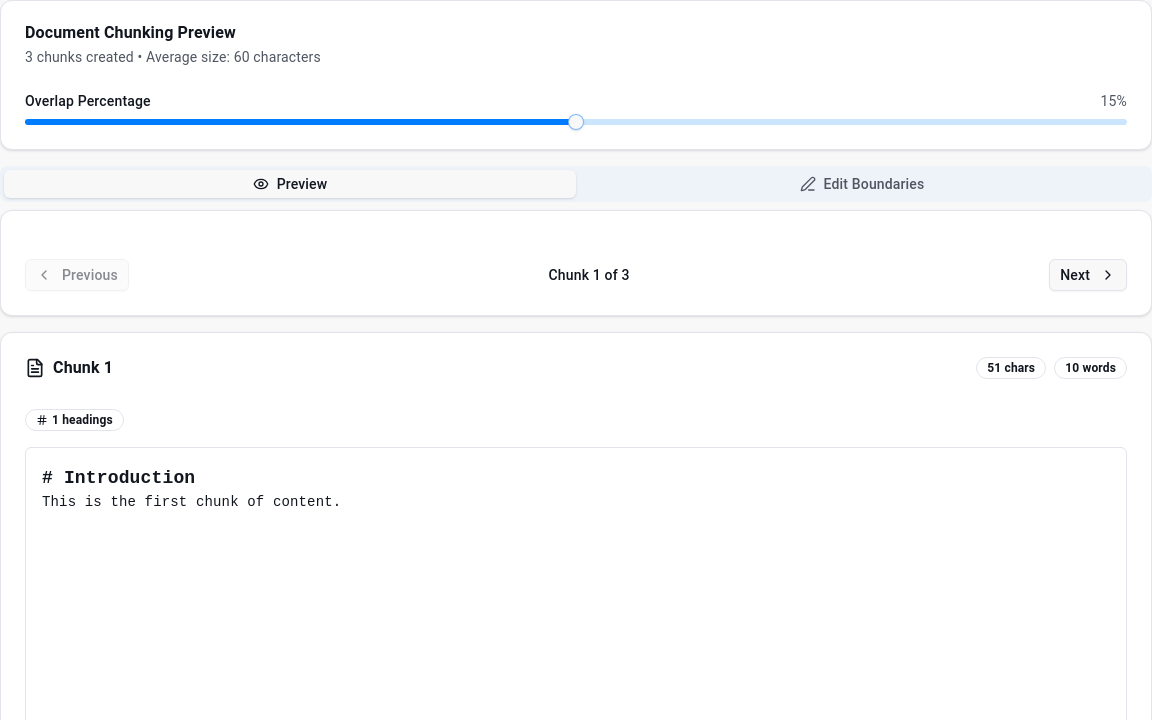
Test: ChunkPreview › should display metadata badges
# Navigate to chunk with code
Click the button "Next". click: (1088, 275)
box: [1049,259,1127,291]
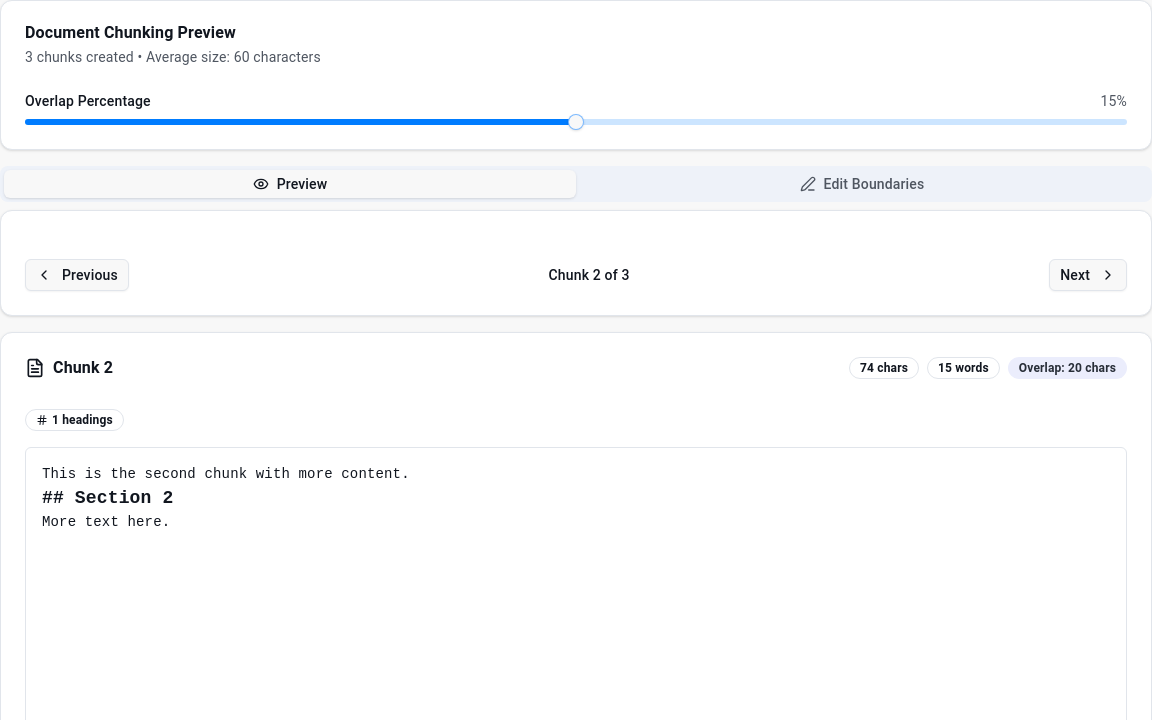
Click the button "Next". click: (1088, 275)
box: [1049,259,1127,291]
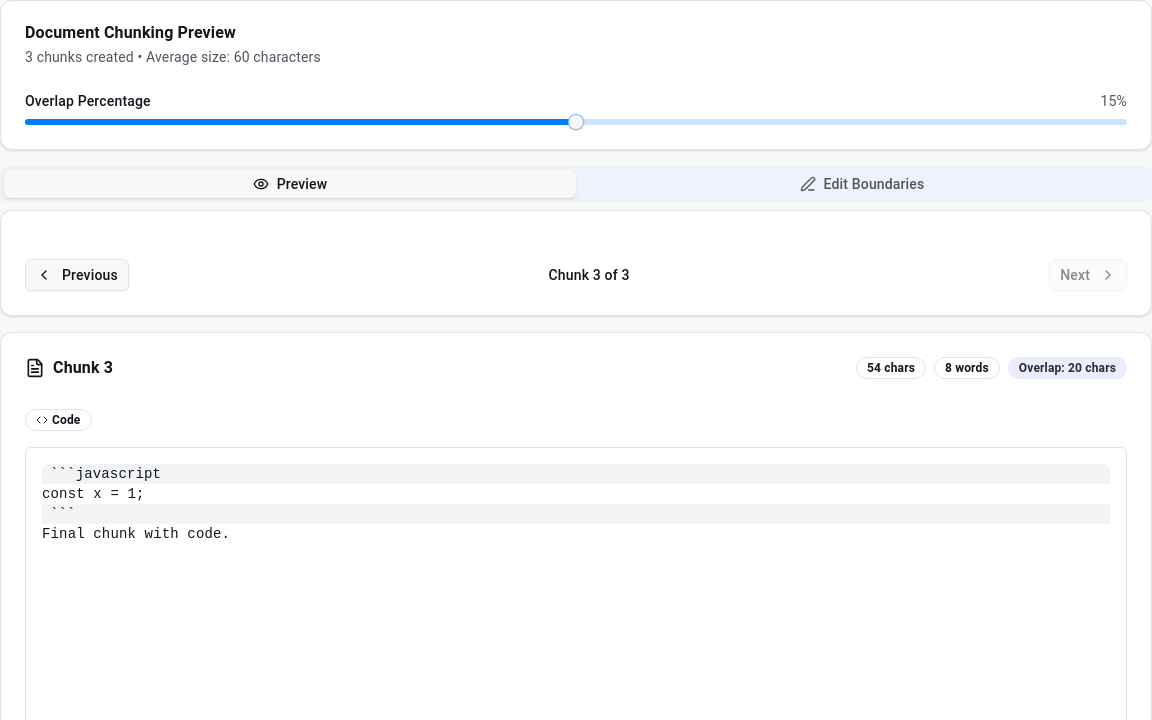
Check: the text "Code" is shown, box [25,409,92,431]
